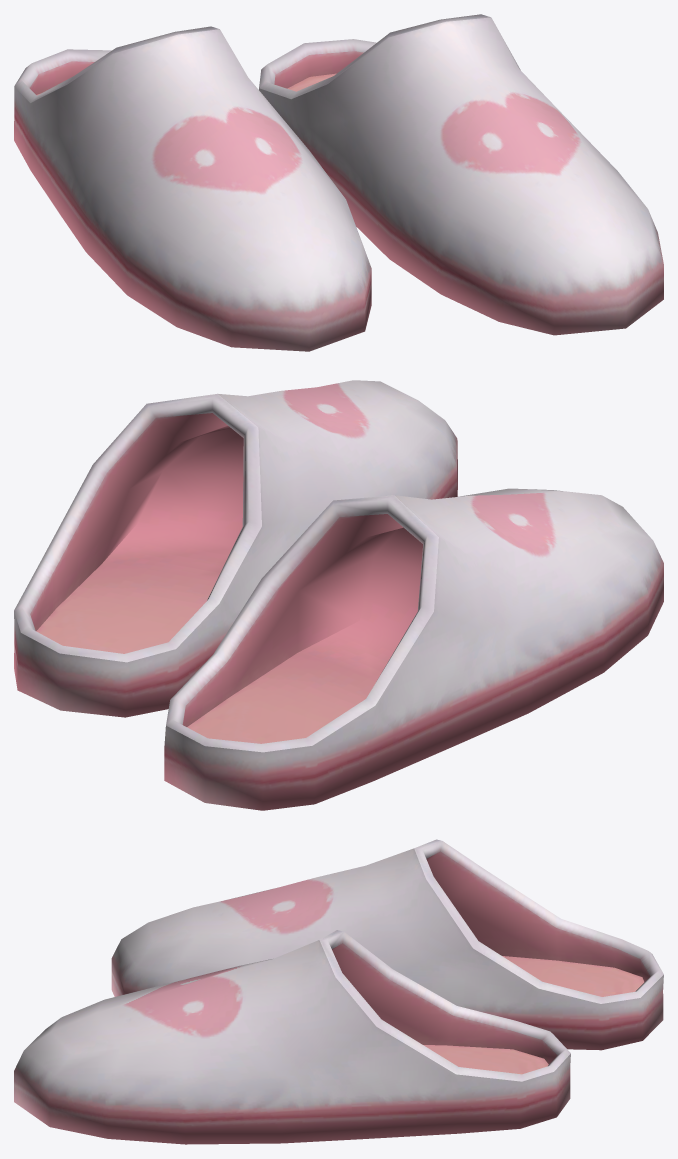
File: pantulog.glb
3 views of the same model, one above another, from view 1: azimuth 30°, elevation 25°; view 2: azimuth 150°, elevation 25°; view 3: azimuth 270°, elevation 25° (orthographic). The views are drawn at different scales.
Parts seen in each view (by area): view 1: ShoesBedroom_DecorShoes.001_0; view 2: ShoesBedroom_DecorShoes.001_0; view 3: ShoesBedroom_DecorShoes.001_0.
Part boxes in pixels (x1=…): ShoesBedroom_DecorShoes.001_0: x1=14, y1=14, x2=663, y2=351; ShoesBedroom_DecorShoes.001_0: x1=14, y1=380, x2=663, y2=810; ShoesBedroom_DecorShoes.001_0: x1=14, y1=839, x2=663, y2=1144.
Size of the model in its own units: 10.77 by 4.25 by 15.7.
1 material, 1 textured.
